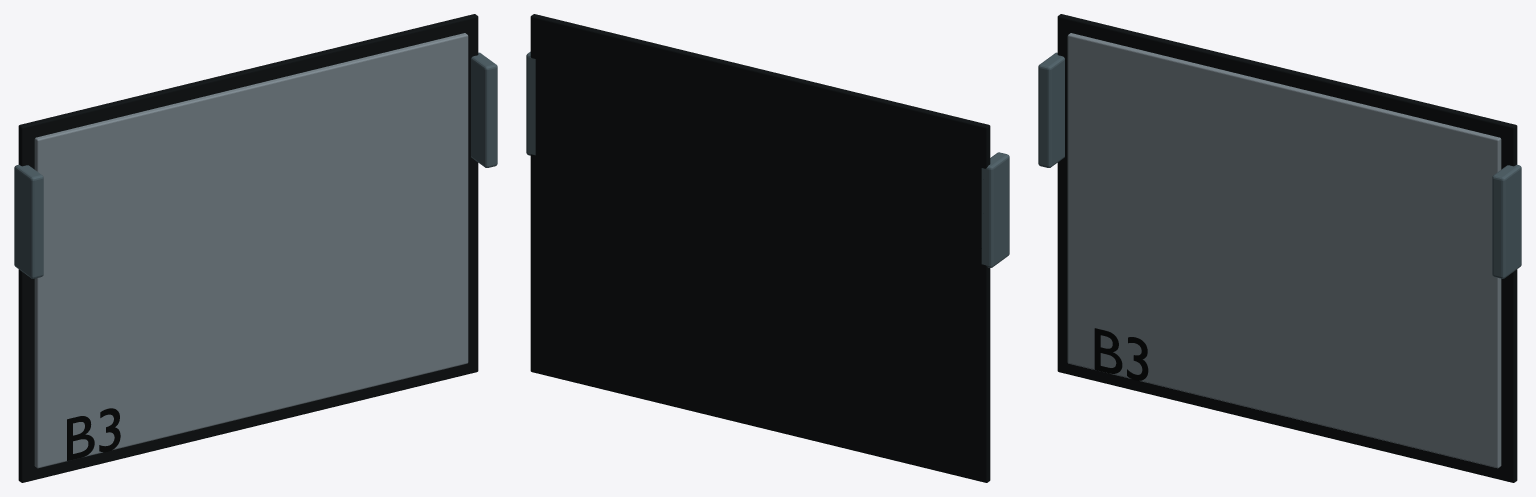
File: slot_b3.obj
3 views of the same model, side by side, from view 1: azimuth 30°, elevation 25°; view 2: azimuth 150°, elevation 25°; view 3: azimuth 330°, elevation 25° (orthographic).
Parts seen in each view (by area): view 1: flex__slot_b3__insert, flex__slot_b3__recess, flex__slot_b3__locator, flex__slot_b3__locator.001, flex__slot_b3__id; view 2: flex__slot_b3__recess, flex__slot_b3__locator, flex__slot_b3__locator.001; view 3: flex__slot_b3__insert, flex__slot_b3__recess, flex__slot_b3__locator.001, flex__slot_b3__locator, flex__slot_b3__id.
Boxes of the visible parts, bbox=[...] form: flex__slot_b3__insert: bbox=[34, 33, 468, 468]; flex__slot_b3__recess: bbox=[18, 14, 478, 482]; flex__slot_b3__locator: bbox=[14, 164, 43, 278]; flex__slot_b3__locator.001: bbox=[471, 52, 497, 167]; flex__slot_b3__id: bbox=[67, 408, 120, 460]; flex__slot_b3__recess: bbox=[530, 14, 990, 482]; flex__slot_b3__locator: bbox=[981, 152, 1009, 267]; flex__slot_b3__locator.001: bbox=[526, 51, 535, 155]; flex__slot_b3__insert: bbox=[1067, 33, 1501, 468]; flex__slot_b3__recess: bbox=[1057, 14, 1517, 482]; flex__slot_b3__locator.001: bbox=[1492, 164, 1521, 278]; flex__slot_b3__locator: bbox=[1038, 52, 1064, 167]; flex__slot_b3__id: bbox=[1094, 328, 1148, 380].
Size of the model in its own units: 0.144 by 0.105 by 0.01.
